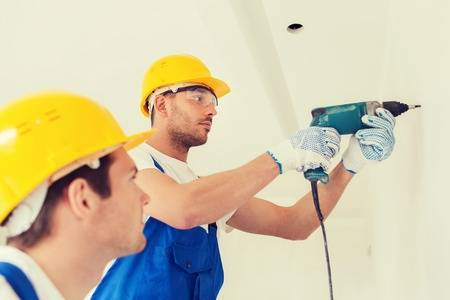casco: (1, 89, 159, 238), (139, 53, 231, 119)
